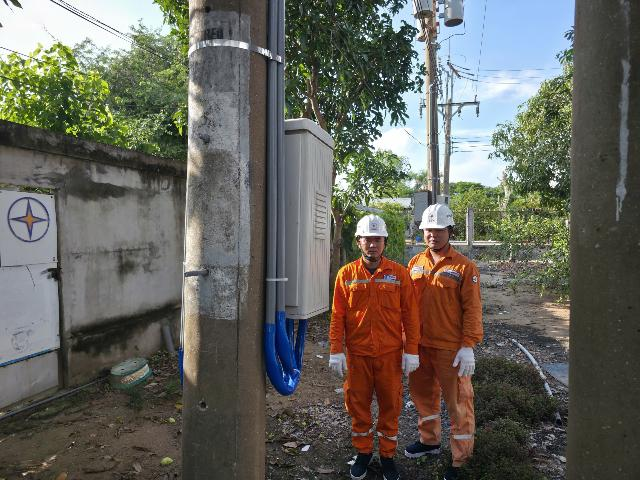gloves: (449, 348, 481, 382), (324, 348, 353, 378), (397, 347, 424, 377)
helmet: (410, 194, 461, 232), (351, 210, 394, 247)
shoes: (349, 448, 384, 476), (378, 449, 407, 480), (405, 438, 435, 458), (442, 463, 472, 480)
